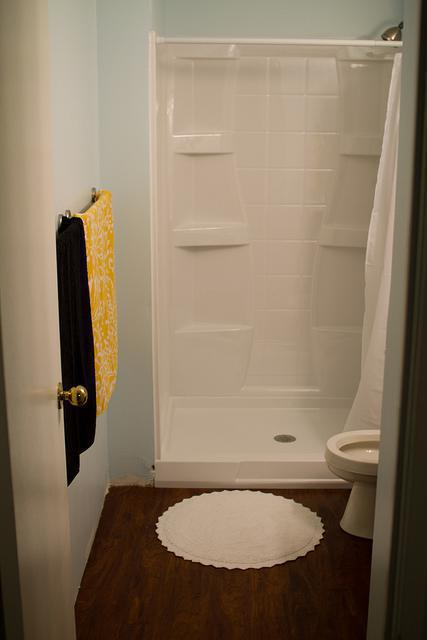Ducha: (147, 20, 418, 498)
